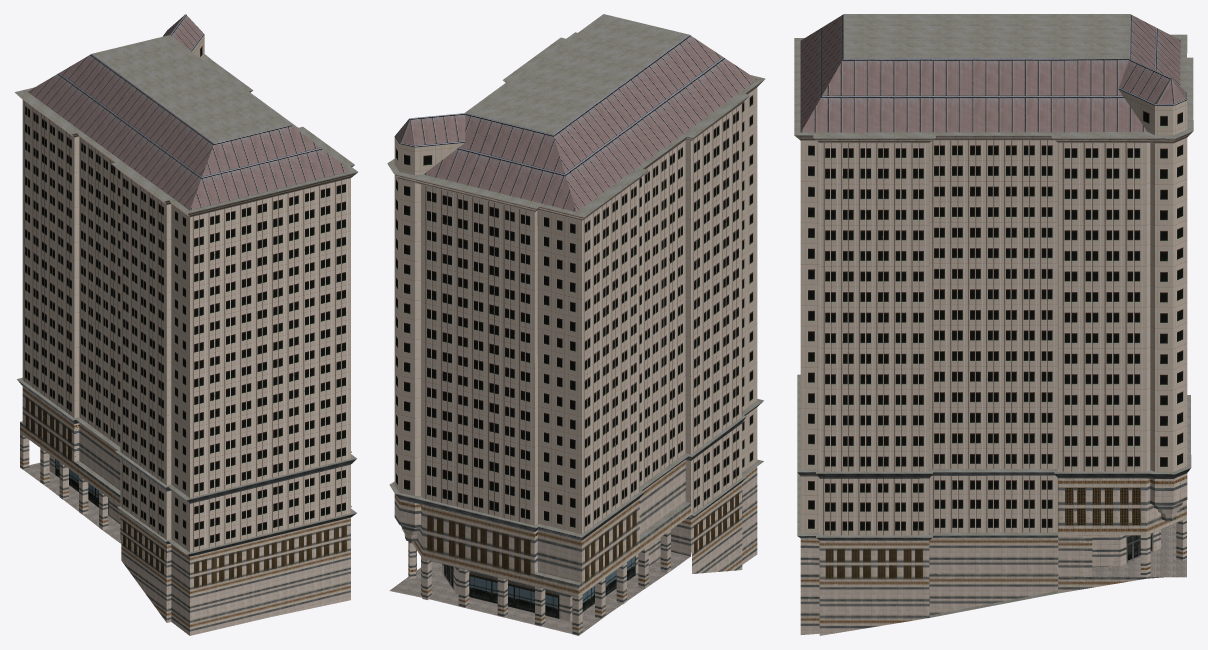
File: ladtbuild6_lan2.obj
3 views of the same model, side by side, from view 1: azimuth 30°, elevation 25°; view 2: azimuth 150°, elevation 25°; view 3: azimuth 270°, elevation 25° (orthographic). The views are drawn at different scales.
Visible parts, largest first — view 1: LAdtbuild6_LAn2; view 2: LAdtbuild6_LAn2; view 3: LAdtbuild6_LAn2.
Boxes of the visible parts, left/top/right/bottom form: LAdtbuild6_LAn2: left=14, top=14, right=357, bottom=635; LAdtbuild6_LAn2: left=387, top=14, right=765, bottom=635; LAdtbuild6_LAn2: left=794, top=14, right=1193, bottom=635.
Size of the model in its own units: 38.28 by 94.83 by 62.03.
